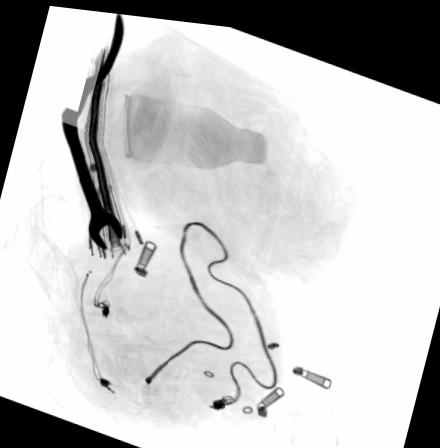Wrench: (59, 118, 123, 248)
